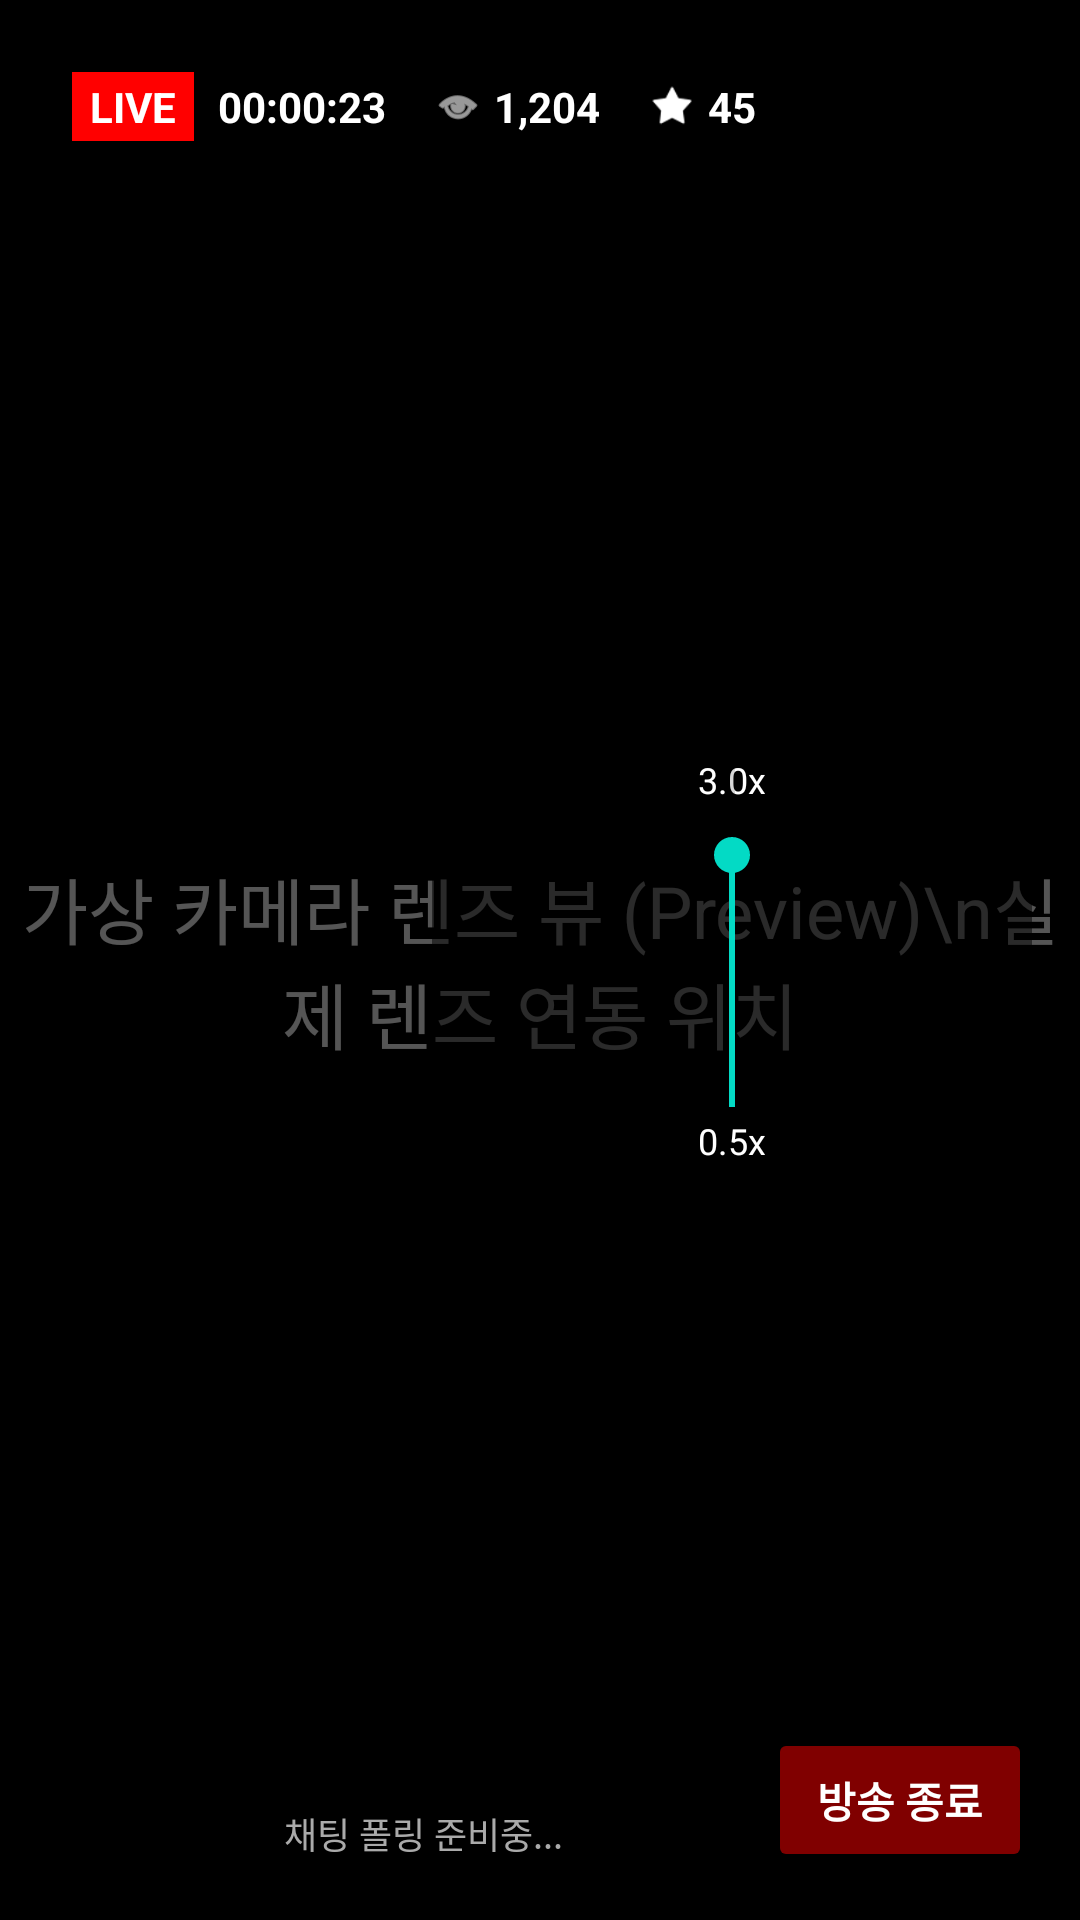

Screen size 1080w x 1920h. Icon name, then its center in pixels as point (x, y):
star on: point (672, 105)
view: point (458, 107)
